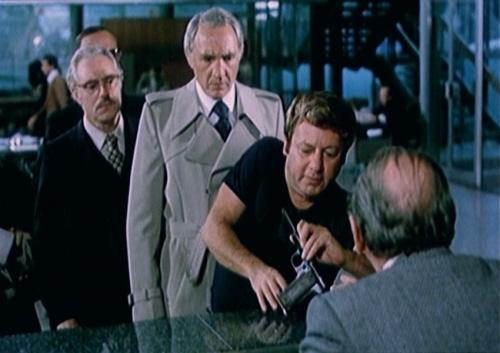Gun: (274, 206, 328, 316)
